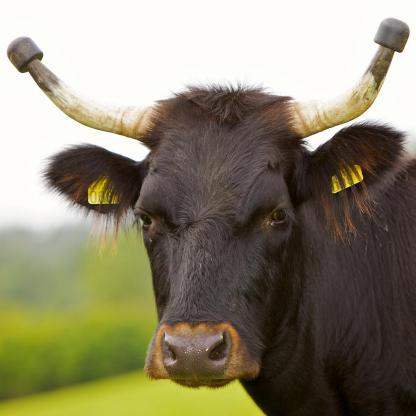cow: (6, 18, 416, 416)
